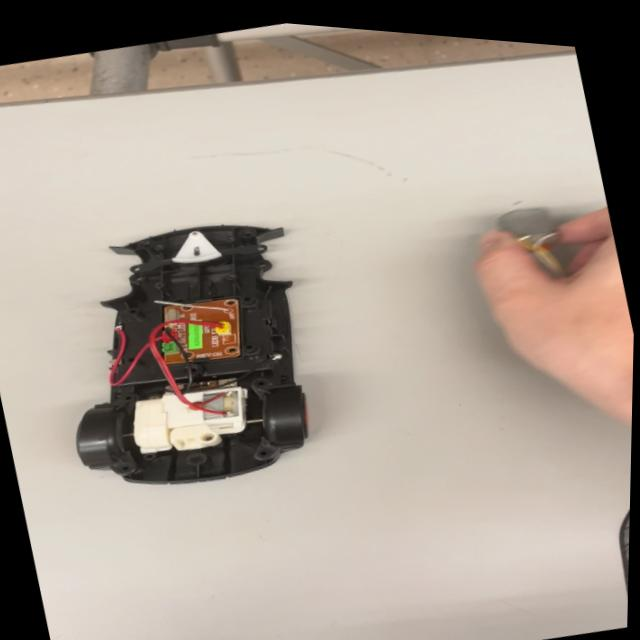Chassis: (41, 183, 341, 521)
motor: (487, 186, 572, 262)
